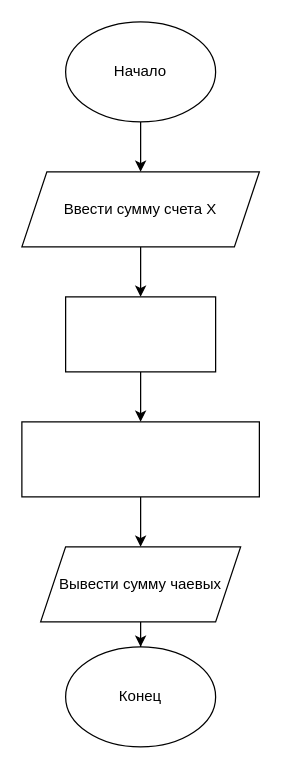
Image size: 281x769. Some labels were removed from this diagram. The centre of each missing label's shape, as x and y in pixels:
Общий счет = Х * 4: (x=140, y=334)
Чаевые = Общий счет * 0.15: (x=140, y=459)
